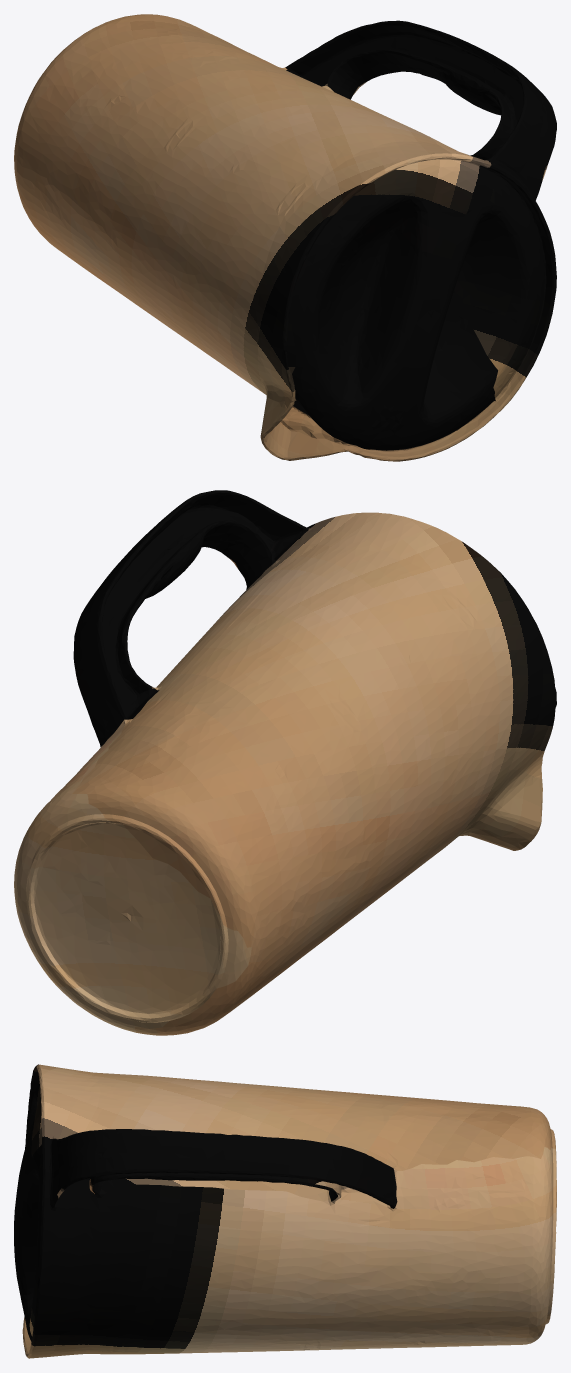
3 views of the same model, one above another, from view 1: azimuth 30°, elevation 25°; view 2: azimuth 150°, elevation 25°; view 3: azimuth 270°, elevation 25° (orthographic). The views are drawn at different scales.
Size of the model in its own units: 0.1514 by 0.1398 by 0.245.
